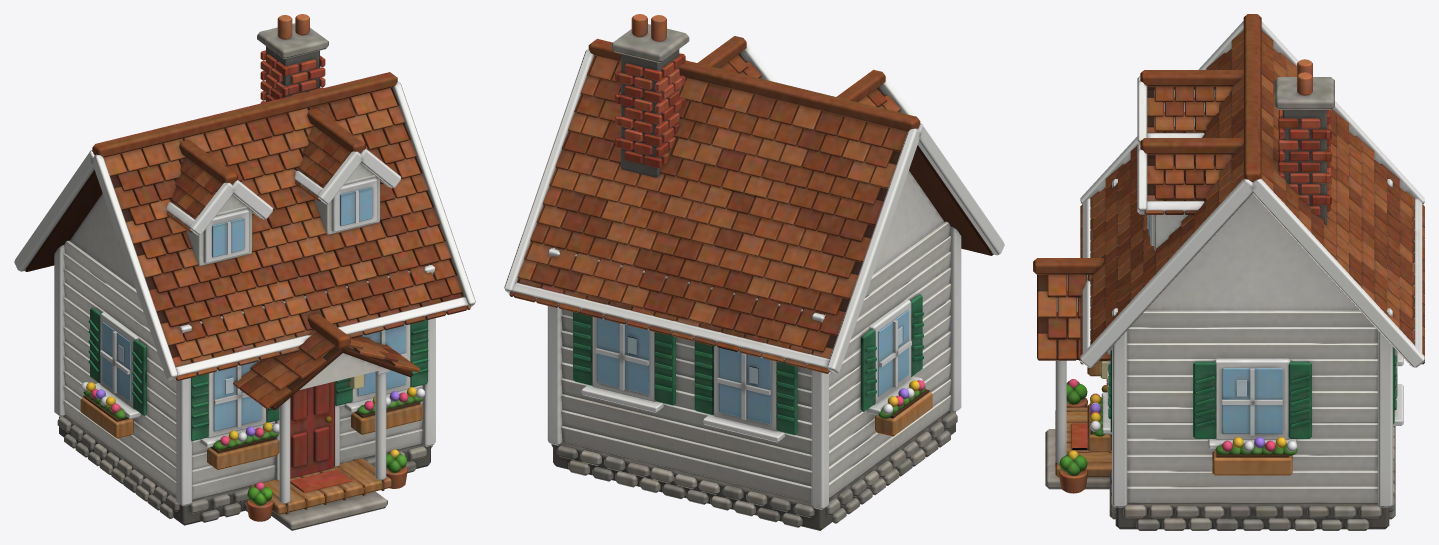
File: farmhouse.glb
3 views of the same model, side by side, from view 1: azimuth 30°, elevation 25°; view 2: azimuth 150°, elevation 25°; view 3: azimuth 270°, elevation 25° (orthographic). The views are drawn at different scales.
Parts seen in each view (by area): view 1: farmhouse; view 2: farmhouse; view 3: farmhouse.
Boxes of the visible parts, x1,y1,x2,y2 form: farmhouse: [14, 14, 475, 530]; farmhouse: [504, 14, 1004, 530]; farmhouse: [1033, 14, 1424, 530].
Size of the model in its own units: 1.91 by 2.39 by 1.95.
1 material, 1 textured.
